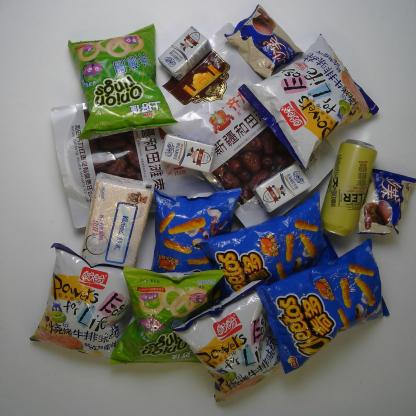Alcohol: (319, 136, 382, 241)
Dessert: (222, 2, 307, 82), (356, 152, 416, 245)
Dried Food: (149, 20, 347, 235), (51, 66, 269, 230)
Milk: (158, 21, 217, 83), (155, 124, 218, 177), (254, 159, 312, 214)
Puffed Food: (239, 30, 380, 171), (256, 236, 391, 375), (198, 193, 339, 313), (24, 238, 149, 369), (170, 277, 288, 405), (110, 261, 232, 367), (68, 23, 178, 140), (146, 185, 244, 310)
Tissue: (79, 171, 157, 275)
